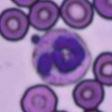N: (32, 28, 92, 86)
